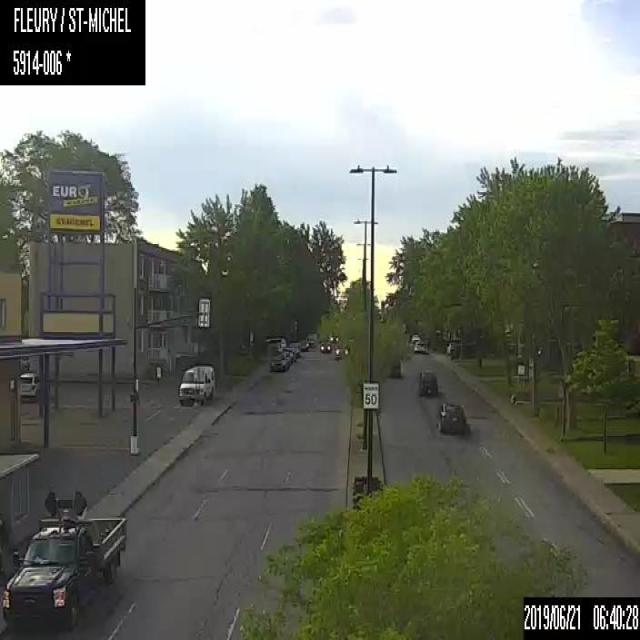vehicle: (0, 488, 125, 630), (176, 361, 215, 407), (434, 402, 466, 434), (18, 369, 40, 399), (418, 369, 437, 394), (268, 352, 288, 371), (282, 345, 296, 364), (334, 343, 349, 360), (318, 340, 333, 355), (413, 339, 428, 353), (326, 332, 339, 342)
